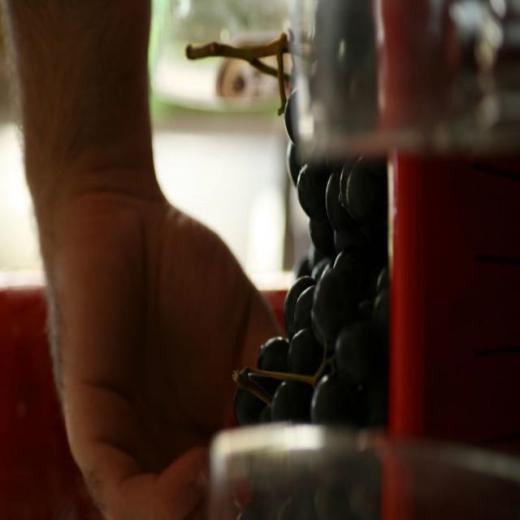Orange: (231, 88, 390, 426)
